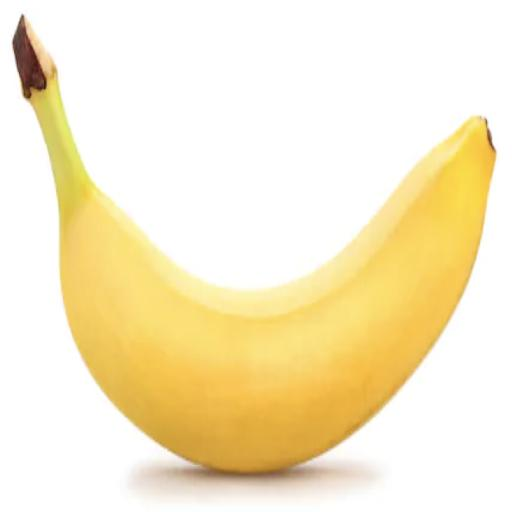banana: (14, 17, 495, 472)
